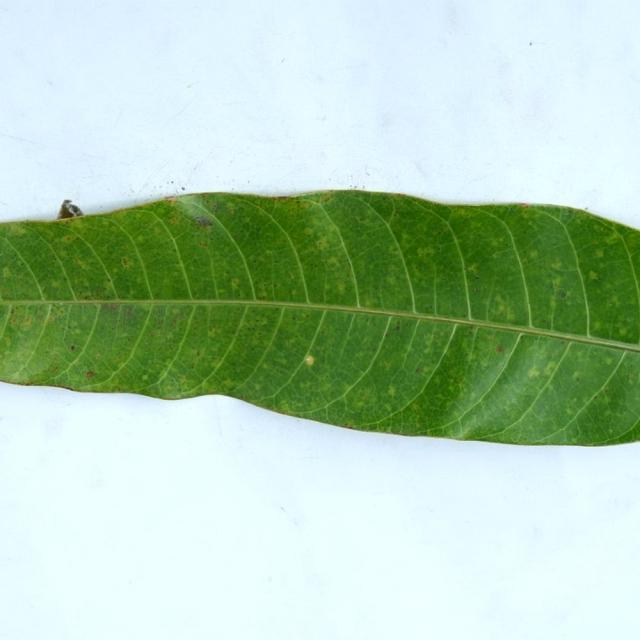Mango: (0, 192, 639, 444)
Powdery_Mildew: (5, 305, 39, 331), (490, 291, 514, 316), (583, 267, 604, 283), (605, 229, 624, 244), (416, 246, 435, 260), (550, 275, 564, 289), (543, 362, 557, 376), (325, 257, 340, 270), (527, 366, 542, 378), (220, 379, 236, 389), (593, 247, 605, 260), (550, 258, 563, 270), (527, 249, 540, 260), (335, 282, 346, 295), (315, 239, 328, 250), (13, 227, 27, 237), (230, 278, 241, 290), (225, 201, 236, 213), (168, 214, 180, 225), (591, 320, 602, 331), (387, 384, 397, 396), (2, 267, 12, 279), (468, 264, 479, 274), (208, 328, 218, 338), (303, 227, 314, 236), (572, 371, 581, 381), (618, 327, 627, 337), (74, 258, 84, 267), (411, 402, 420, 411), (63, 235, 73, 243), (566, 407, 574, 415), (496, 344, 504, 352), (86, 371, 94, 378), (560, 291, 567, 298), (600, 226, 608, 232), (180, 375, 188, 381), (142, 374, 149, 380), (122, 258, 128, 265), (415, 367, 422, 373)
